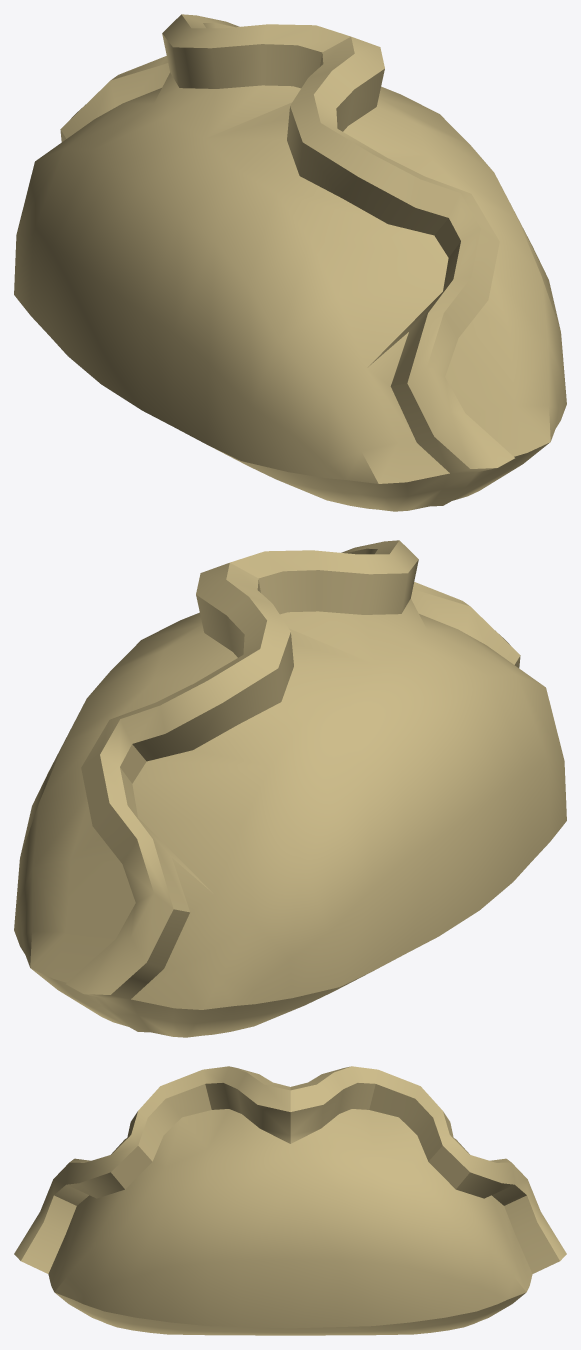
Rendered from Food_Gyoza.fbx.
The picture shows the model from 3 angles, top to bottom: view 1: azimuth 30°, elevation 25°; view 2: azimuth 150°, elevation 25°; view 3: azimuth 270°, elevation 25°; orthographic projection. The views are drawn at different scales.
Parts seen in each view (by area): view 1: Food_Gyoza; view 2: Food_Gyoza; view 3: Food_Gyoza.
Boxes of the visible parts, x1,y1,x2,y2 form: Food_Gyoza: (14, 14, 566, 511); Food_Gyoza: (14, 540, 566, 1037); Food_Gyoza: (14, 1066, 566, 1335).
Bounding box in the file's own units: 29.69 × 25.88 × 55.11.
